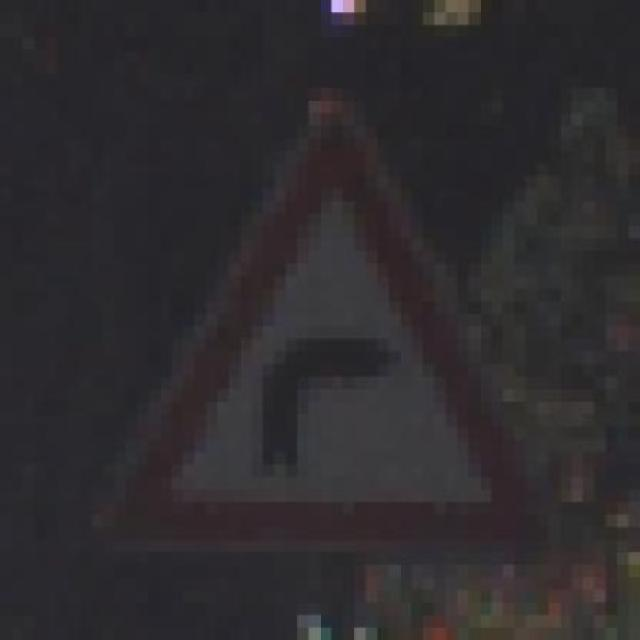Dangerous Rright Curve Ahead: (91, 88, 572, 564)
